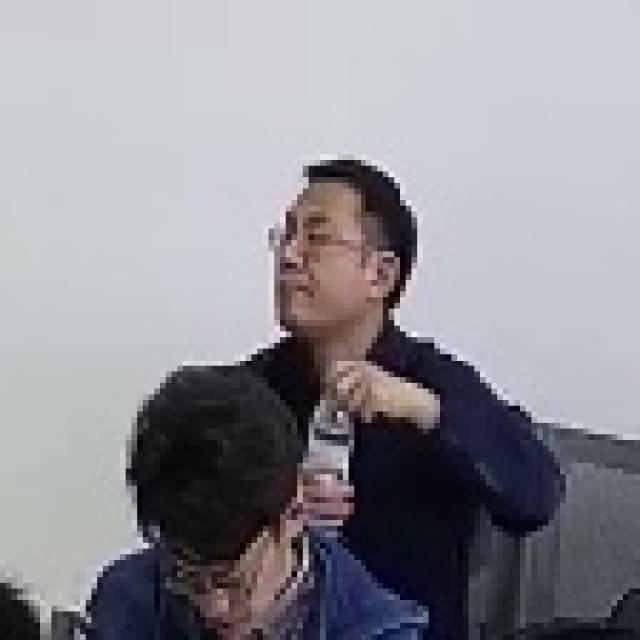drink: (250, 148, 570, 541)
trance: (91, 360, 428, 640)
